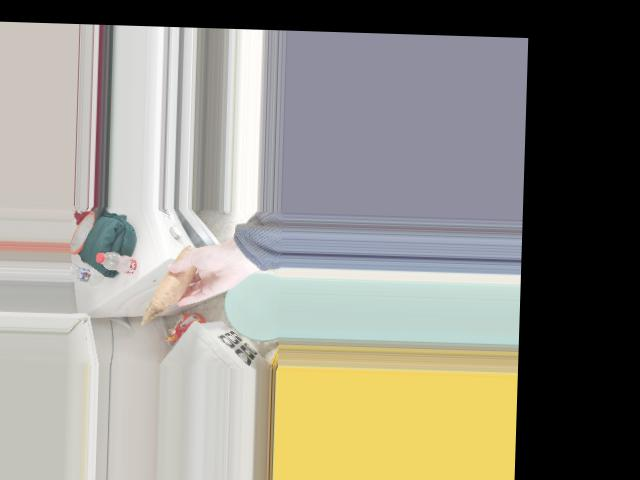sweet_potato: (155, 253, 193, 305)
